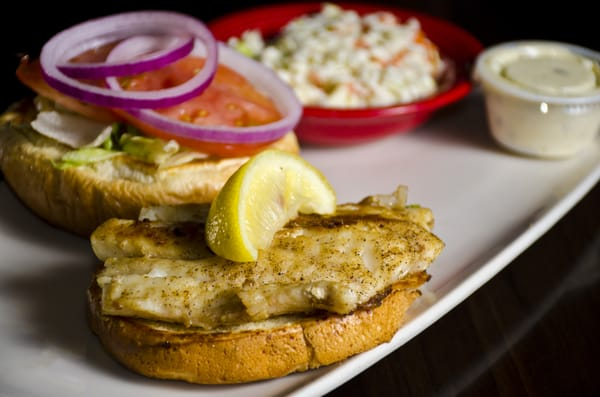soup: (83, 149, 443, 384), (0, 35, 304, 236)
sushi: (211, 3, 481, 148), (27, 9, 219, 114)
